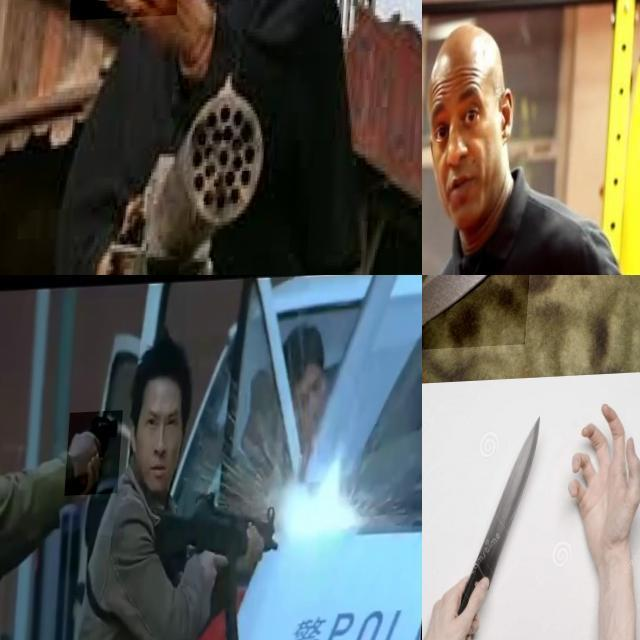-: (456, 411, 550, 632), (422, 275, 537, 358)
gun-knife-thesis - v11 Yolov5 augmented: (153, 482, 289, 640), (74, 0, 193, 116), (68, 414, 125, 499)
